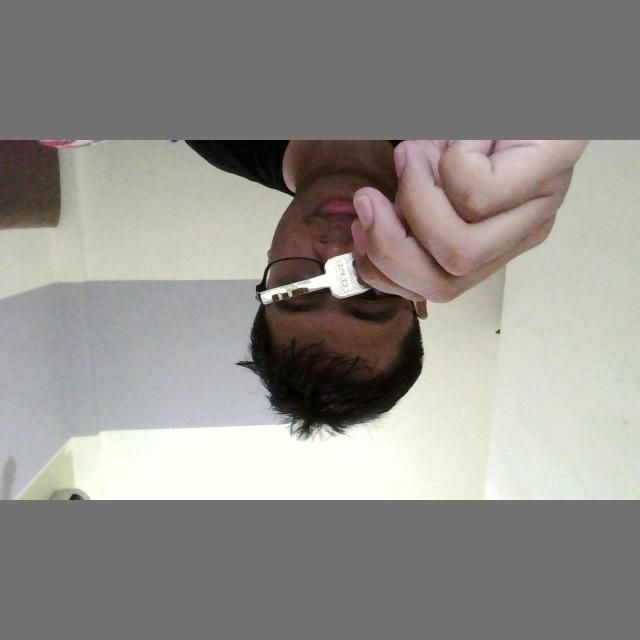Keys: (256, 246, 376, 312)
